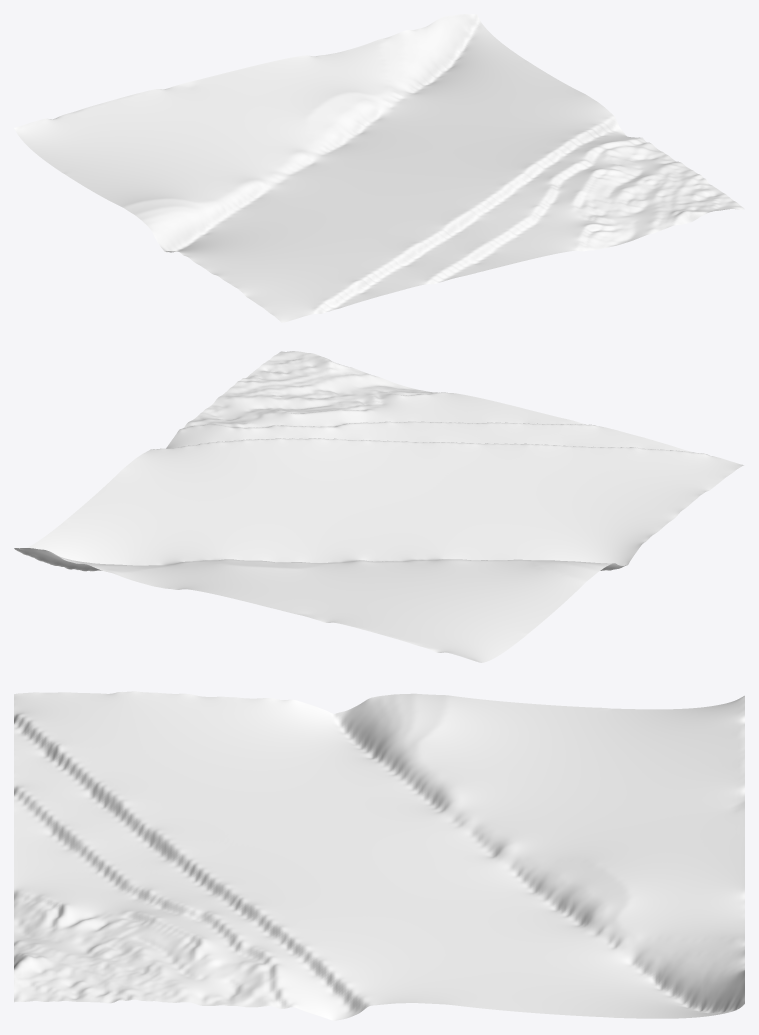
Rendered from 27_49_mccv_groundtruth.glb.
The picture shows the model from 3 angles, top to bottom: view 1: azimuth 30°, elevation 25°; view 2: azimuth 150°, elevation 25°; view 3: azimuth 270°, elevation 25°; orthographic projection. The views are drawn at different scales.
Parts seen in each view (by area): view 1: TerrainTile; view 2: TerrainTile; view 3: TerrainTile.
Part boxes in pixels (x1=…): TerrainTile: x1=14, y1=14, x2=744, y2=322; TerrainTile: x1=14, y1=351, x2=743, y2=662; TerrainTile: x1=14, y1=691, x2=744, y2=1020.
Bounding box in the file's own units: 533 × 40 × 533.
1 material, 1 textured.
